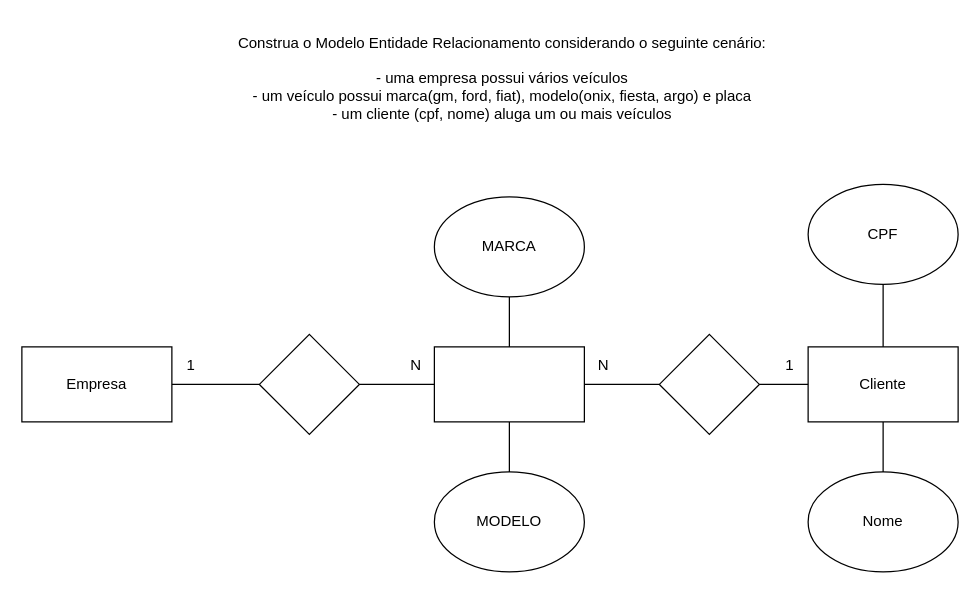
Some shapes in this 980 by 594 pixel diagram are drawn without their labels. Here are the shapes that lost their labels. From the top down, the centre of each, then its label:
At [308,383]: "Possui".
At [508,384]: "Veículo".
At [708,383]: "Aluga".
